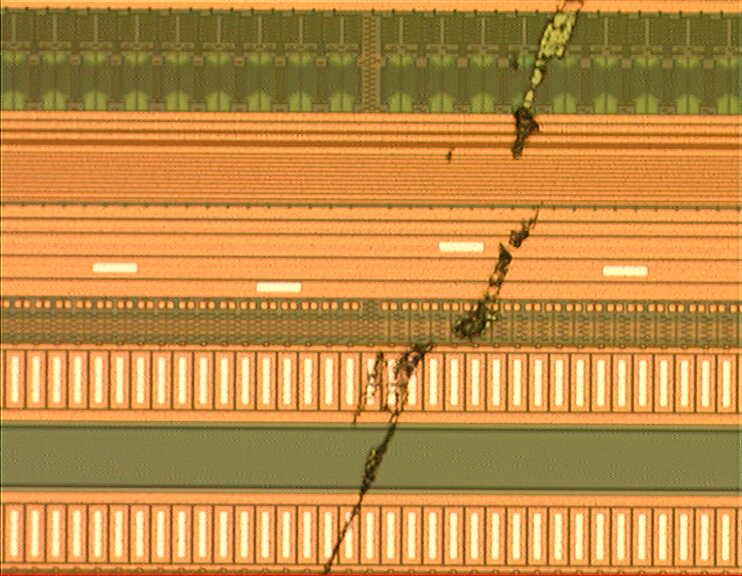SCRATCH: (306, 1, 607, 576)
